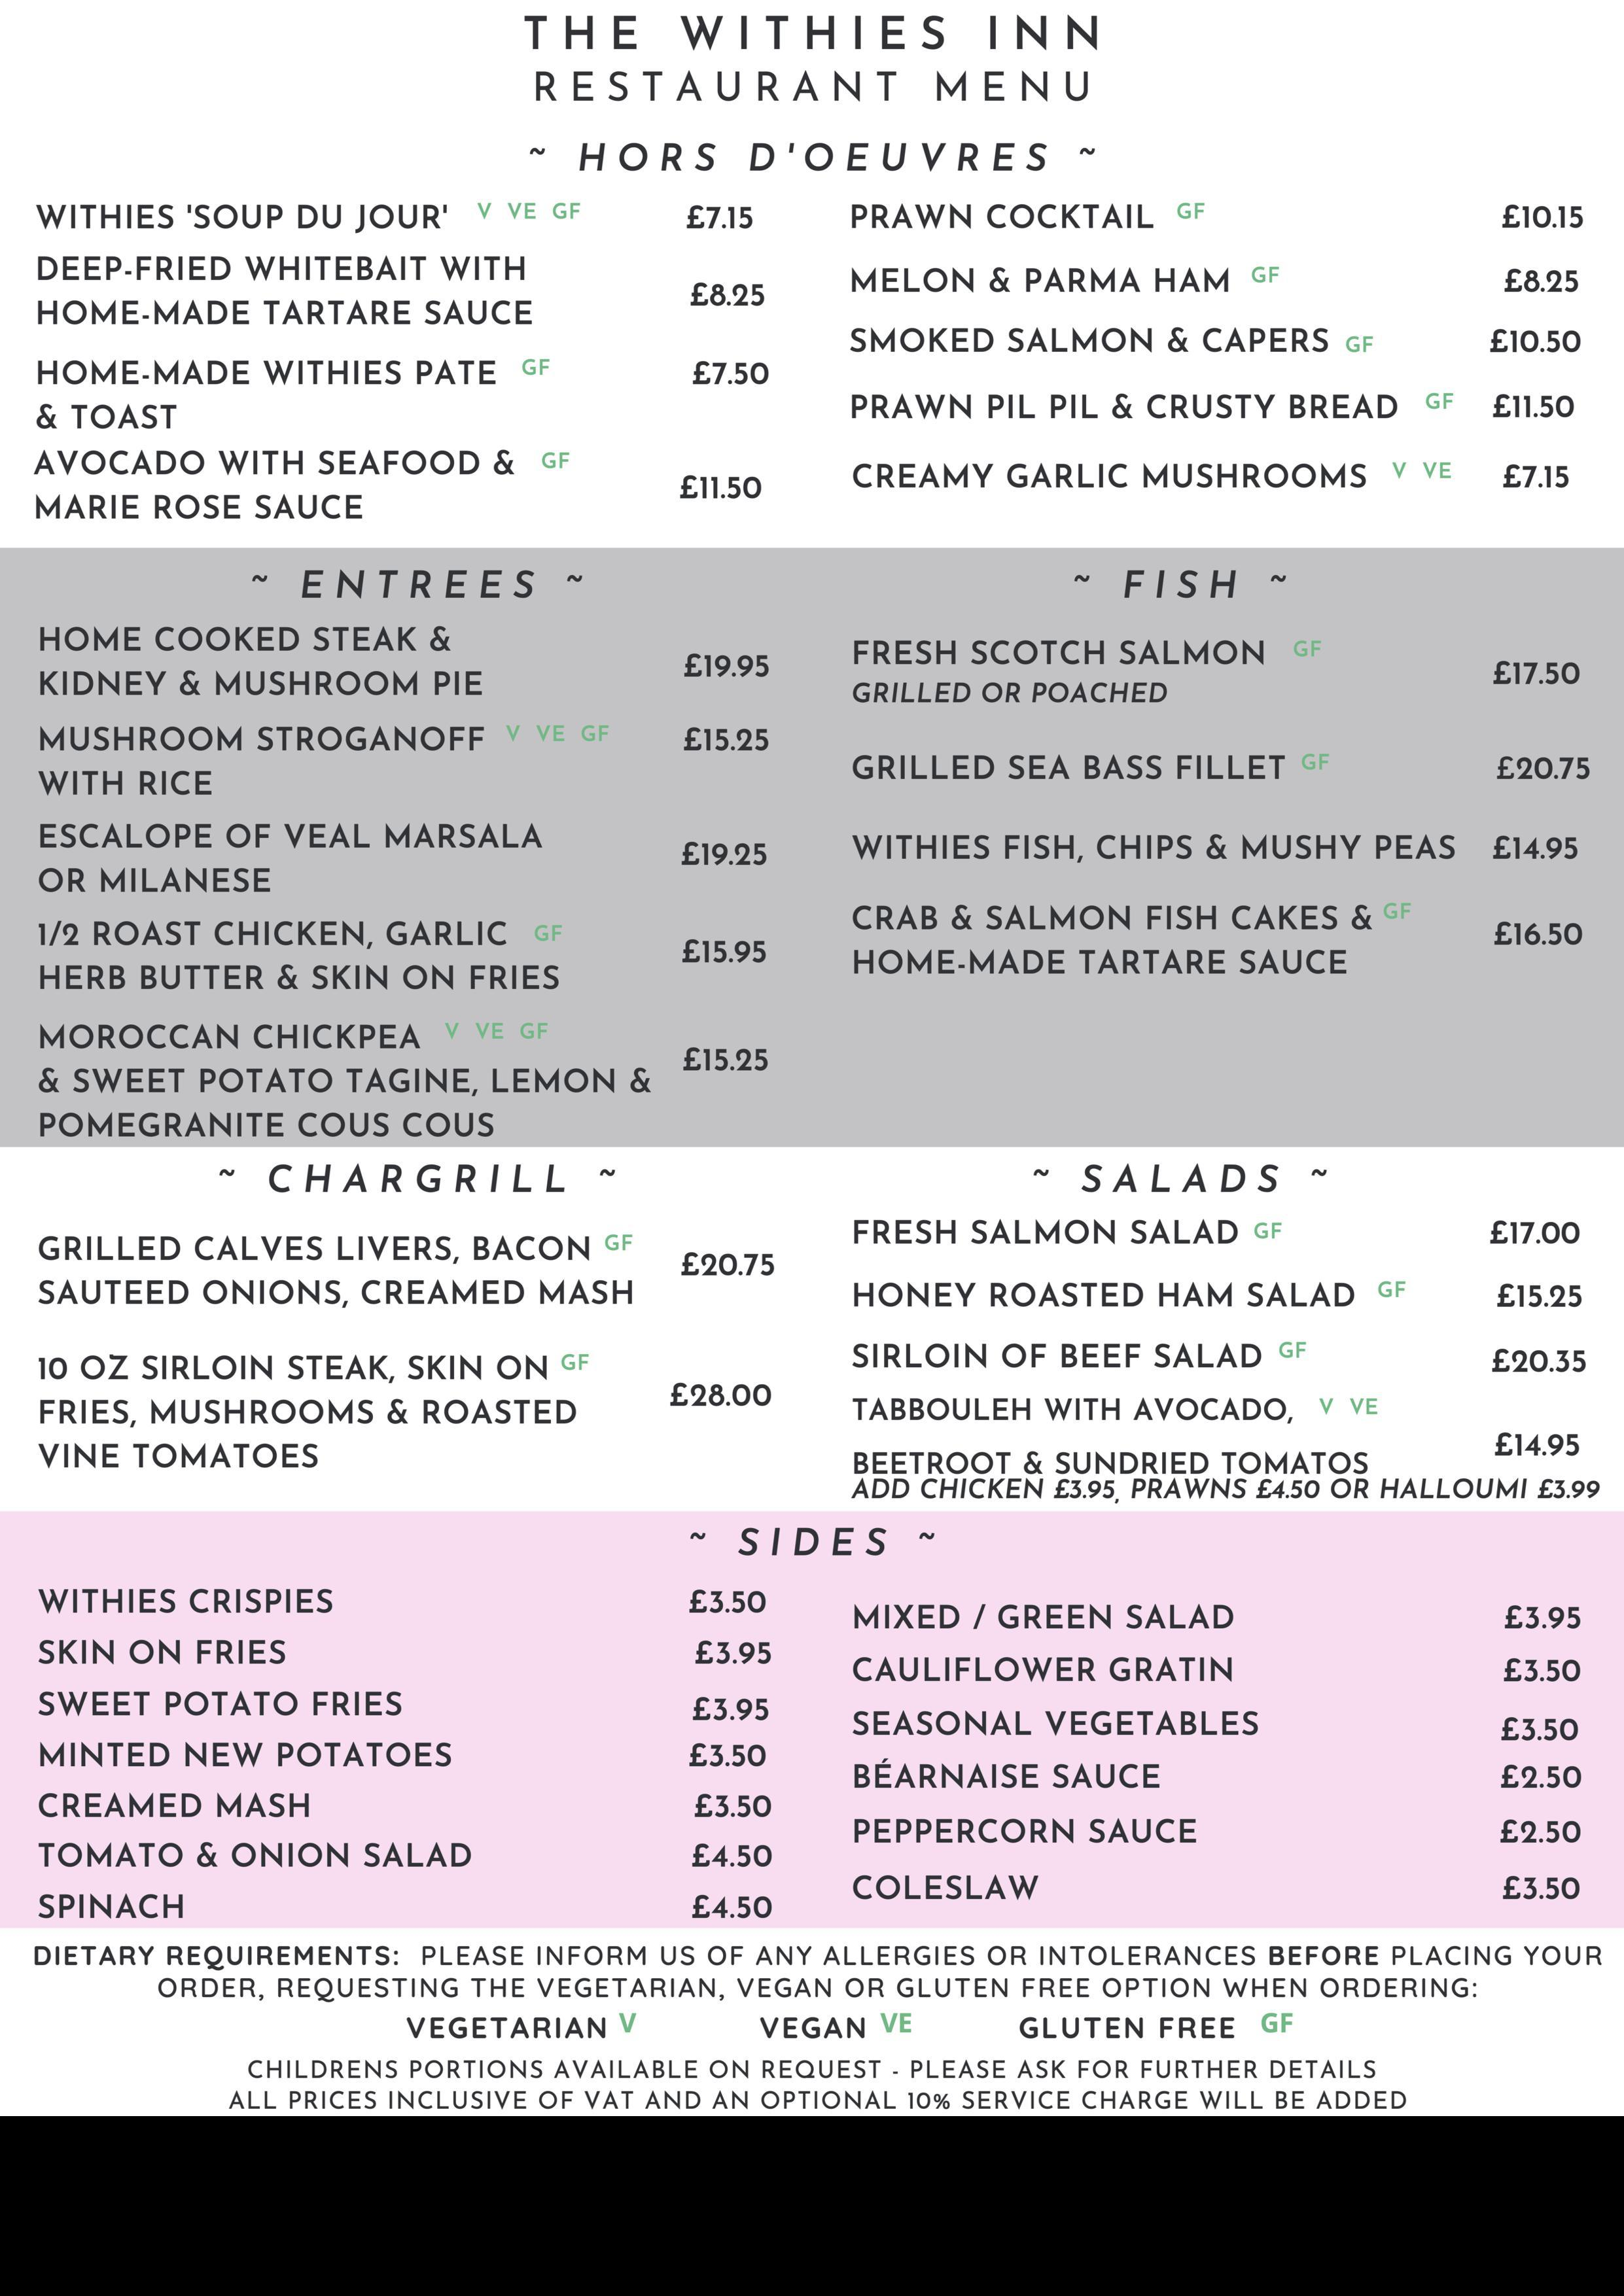description: (851, 1469, 1603, 1502), (849, 671, 1176, 708)
item: (32, 1346, 782, 1474), (32, 1017, 779, 1138), (849, 1390, 1603, 1505), (26, 248, 775, 353), (26, 437, 770, 531), (32, 715, 780, 806), (33, 1228, 784, 1314), (32, 615, 782, 699), (30, 912, 775, 996), (30, 353, 777, 434), (32, 815, 773, 896), (844, 631, 1592, 708), (849, 898, 1587, 975), (840, 188, 1592, 249), (845, 1750, 1587, 1808), (30, 193, 777, 249), (838, 314, 1594, 369), (849, 448, 1582, 502), (33, 1729, 779, 1781), (844, 1806, 1589, 1859), (849, 1862, 1589, 1915), (842, 381, 1580, 434), (30, 1783, 782, 1834), (844, 1592, 1592, 1643), (33, 1676, 779, 1727), (849, 1697, 1587, 1748), (840, 258, 1591, 307), (33, 1578, 775, 1627), (32, 1627, 780, 1674), (851, 826, 1589, 873), (844, 1209, 1582, 1256), (844, 1646, 1596, 1692), (851, 747, 1598, 792), (847, 1275, 1587, 1321), (30, 1836, 780, 1880), (28, 1885, 782, 1927), (849, 1335, 1591, 1377)
price: (35, 1022, 654, 1135), (33, 1351, 591, 1470), (39, 1235, 642, 1309), (851, 1395, 1383, 1476), (37, 917, 571, 993), (33, 251, 540, 330), (32, 446, 517, 523), (854, 905, 1378, 975), (37, 822, 547, 894), (32, 355, 499, 430), (35, 622, 485, 697), (37, 724, 489, 796), (851, 829, 1459, 866), (851, 457, 1369, 492), (849, 390, 1403, 422), (849, 325, 1332, 357), (851, 1279, 1357, 1309), (852, 752, 1292, 783), (849, 1653, 1250, 1686), (33, 200, 452, 232), (37, 1739, 453, 1771), (851, 1339, 1265, 1370), (851, 1708, 1264, 1739), (851, 1600, 1237, 1634), (851, 636, 1269, 666), (35, 1688, 404, 1722), (851, 1217, 1244, 1247), (847, 265, 1236, 295), (37, 1841, 469, 1867), (847, 199, 1160, 232), (851, 1758, 1169, 1790), (851, 1818, 1204, 1846), (35, 1586, 337, 1614), (35, 1790, 313, 1820), (849, 1869, 1044, 1910), (35, 1637, 290, 1667), (35, 1892, 188, 1920), (1497, 1815, 1580, 1850), (1497, 1651, 1584, 1685), (1499, 1600, 1584, 1634), (1499, 1873, 1584, 1906), (1497, 1711, 1582, 1743), (1497, 1760, 1582, 1792)
